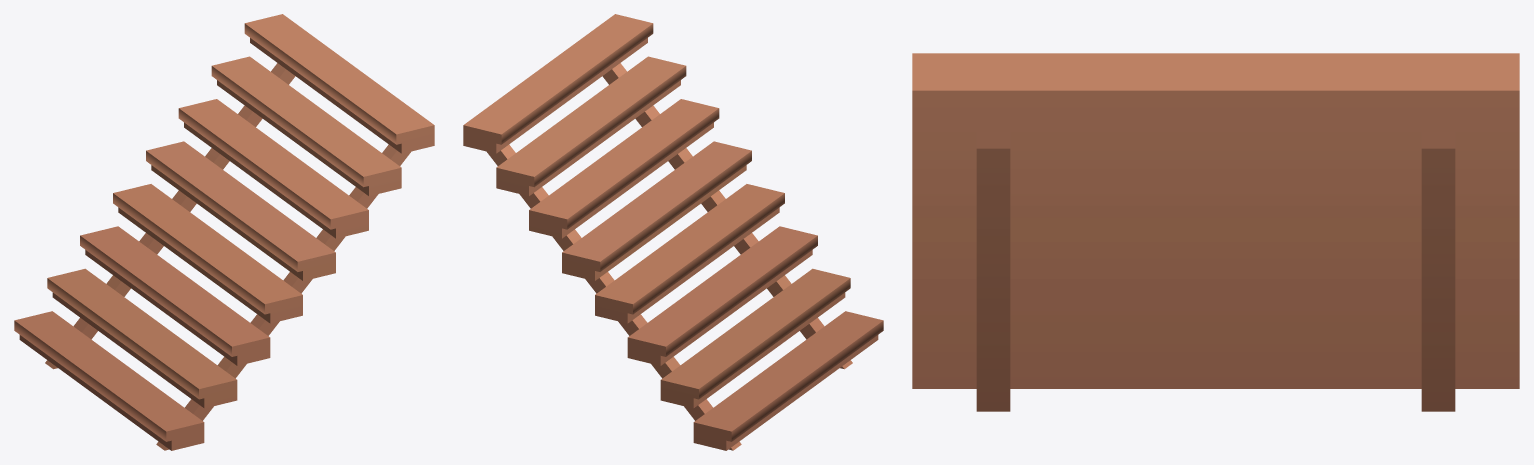
File: stairs-wide-wood.glb
3 renders of one model, left to right at view 1: azimuth 30°, elevation 25°; view 2: azimuth 150°, elevation 25°; view 3: azimuth 270°, elevation 25°, orthographic. The views are drawn at different scales.
Parts seen in each view (by area): view 1: stairs-wide-wood; view 2: stairs-wide-wood; view 3: stairs-wide-wood.
Boxes of the visible parts, x1,y1,x2,y2 form: stairs-wide-wood: (14, 14, 434, 450); stairs-wide-wood: (463, 14, 883, 450); stairs-wide-wood: (912, 53, 1519, 411).
Bounding box in the file's own units: 1.02 × 1 × 1.
Materials: 1 (1 with a texture image).
